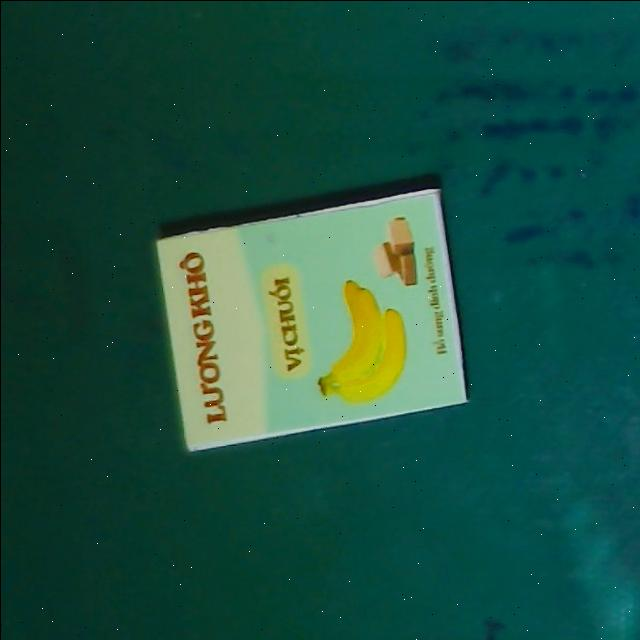chuoi: (151, 186, 474, 449)
